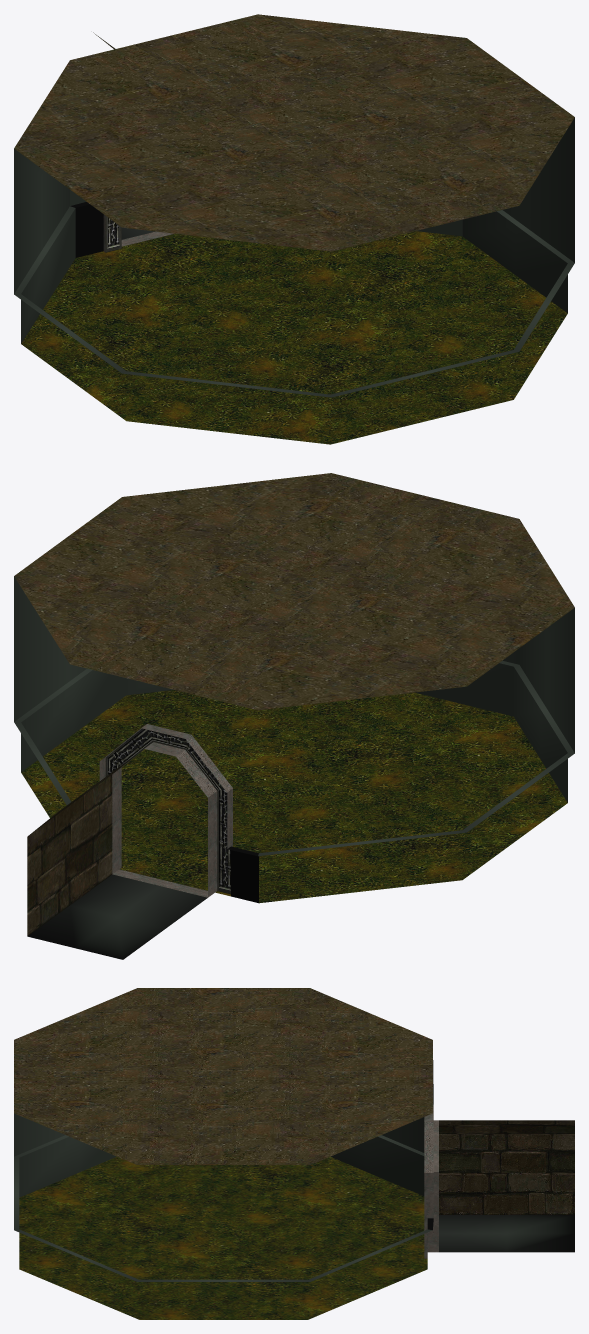
3 views of the same model, one above another, from view 1: azimuth 30°, elevation 25°; view 2: azimuth 150°, elevation 25°; view 3: azimuth 270°, elevation 25° (orthographic). The views are drawn at different scales.
Visible parts, largest first — view 1: node-017AC31D, node-0342904B, node-023800F8, node-0150DC07, node-02959E41; view 2: node-017AC31D, node-0342904B, node-023800F8, node-0150DC07, node-03D7BC40, node-03CD5570, node-03F808BA, node-03B84E91, node-02959E41; view 3: node-017AC31D, node-0342904B, node-03D7BC40, node-023800F8, node-03CD5570, node-0150DC07, node-03F808BA.
Part boxes in pixels (x1,y1,x2,y2): node-017AC31D: (14,14,574,251); node-0342904B: (21,231,567,444); node-023800F8: (14,206,574,397); node-0150DC07: (14,117,574,293); node-02959E41: (70,202,103,257); node-017AC31D: (14,473,574,710); node-0342904B: (21,690,567,903); node-023800F8: (14,660,574,856); node-0150DC07: (14,576,574,752); node-03D7BC40: (27,751,140,936); node-03CD5570: (28,874,207,959); node-03F808BA: (99,724,232,897); node-03B84E91: (105,728,230,894); node-02959E41: (227,846,258,903); node-017AC31D: (14,988,432,1164); node-0342904B: (19,1156,427,1319); node-03D7BC40: (439,1120,574,1214); node-023800F8: (14,1135,432,1281); node-03CD5570: (439,1215,574,1252); node-0150DC07: (14,1060,433,1156); node-03F808BA: (424,1104,438,1258).
Size of the model in its own units: 568 by 235 by 761.
